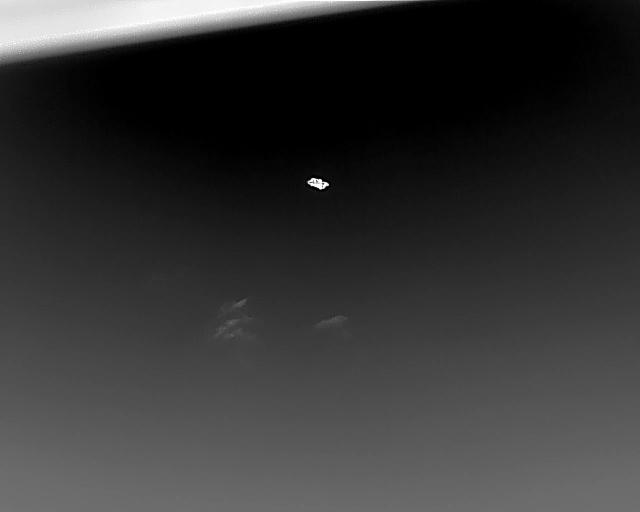fpv-drone: (307, 177, 329, 190)
